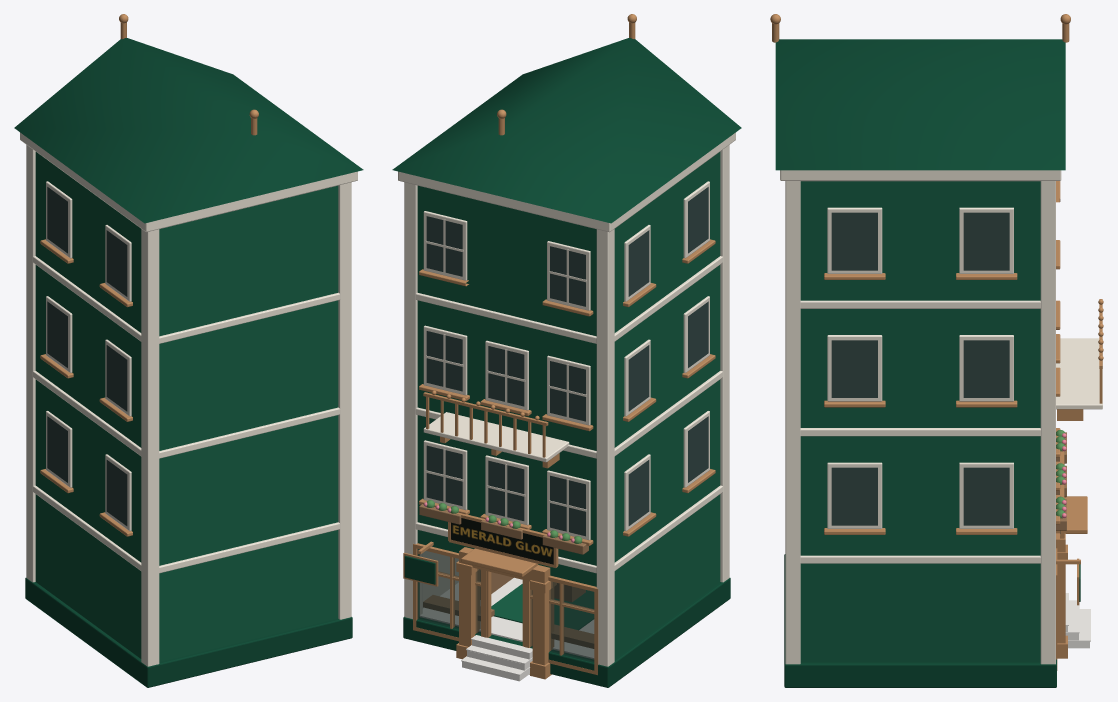
The model's file is gedung-g04-blender-v5.glb.
3 renders of one model, left to right at view 1: azimuth 30°, elevation 25°; view 2: azimuth 150°, elevation 25°; view 3: azimuth 270°, elevation 25°, orthographic. The views are drawn at different scales.
Parts seen in each view (by area): view 1: Badan, Atap, Balkon_Lantai, Jendela_Kaca, Balkon_Bola_0; view 2: Badan, Balkon_Lantai, Atap, Jendela_Kaca, Balkon_Bola_0, Etalase_Kaca_-1.6, Door_Trim, Bingkai_Etalase, Shop_Sign, Int_Shell, Etalase_Isi_-1.6, Undakan_Pintu (+2 smaller); view 3: Badan, Atap, Balkon_Lantai, Jendela_Kaca, Balkon_Bola_0, Door_Trim, Undakan_Pintu.
Part boxes in pixels (<box>): Badan: <box>35,152,338,662</box>; Atap: <box>14,38,363,687</box>; Balkon_Lantai: <box>20,132,357,666</box>; Jendela_Kaca: <box>47,187,127,525</box>; Balkon_Bola_0: <box>40,14,258,536</box>; Badan: <box>417,152,720,658</box>; Balkon_Lantai: <box>398,132,735,666</box>; Atap: <box>392,38,741,687</box>; Jendela_Kaca: <box>426,187,708,536</box>; Balkon_Bola_0: <box>403,14,715,586</box>; Etalase_Kaca_-1.6: <box>417,549,594,662</box>; Door_Trim: <box>456,547,556,679</box>; Bingkai_Etalase: <box>413,543,598,675</box>; Shop_Sign: <box>448,512,558,567</box>; Int_Shell: <box>420,551,593,659</box>; Etalase_Isi_-1.6: <box>419,504,593,648</box>; Undakan_Pintu: <box>461,635,532,681</box>; Badan: <box>800,181,1040,662</box>; Atap: <box>775,39,1080,687</box>; Balkon_Lantai: <box>780,170,1102,664</box>; Jendela_Kaca: <box>831,212,1009,525</box>; Balkon_Bola_0: <box>770,14,1103,605</box>; Door_Trim: <box>1056,533,1067,658</box>; Undakan_Pintu: <box>1065,593,1090,648</box>.
Size of the model in its own units: 6.4 by 15.56 by 7.58.
Materials: 16 (1 with a texture image).
